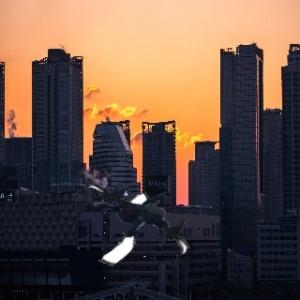drone: (79, 166, 194, 281)
